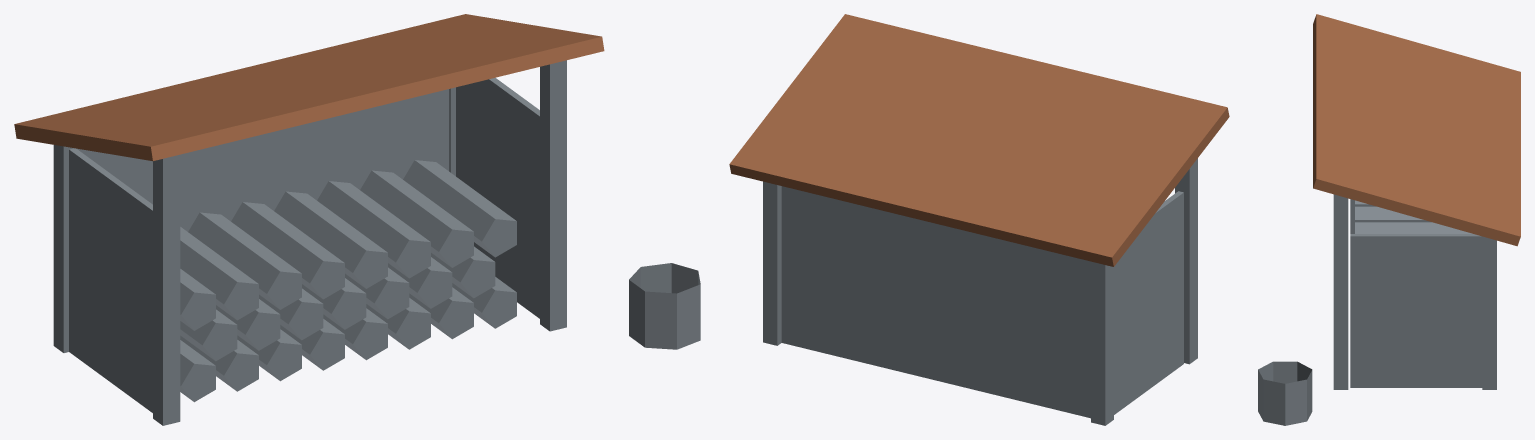
The model's file is woodshed.gltf.
3 views of the same model, side by side, from view 1: azimuth 30°, elevation 25°; view 2: azimuth 150°, elevation 25°; view 3: azimuth 270°, elevation 25° (orthographic). The views are drawn at different scales.
Visible parts, largest first — view 1: woodshed; view 2: woodshed; view 3: woodshed.
Boxes of the visible parts, left/top/right/bottom form: woodshed: left=14, top=14, right=700, bottom=425; woodshed: left=729, top=14, right=1229, bottom=425; woodshed: left=1258, top=14, right=1520, bottom=425.
Bounding box in the file's own units: 4.9 × 2.61 × 2.83.
